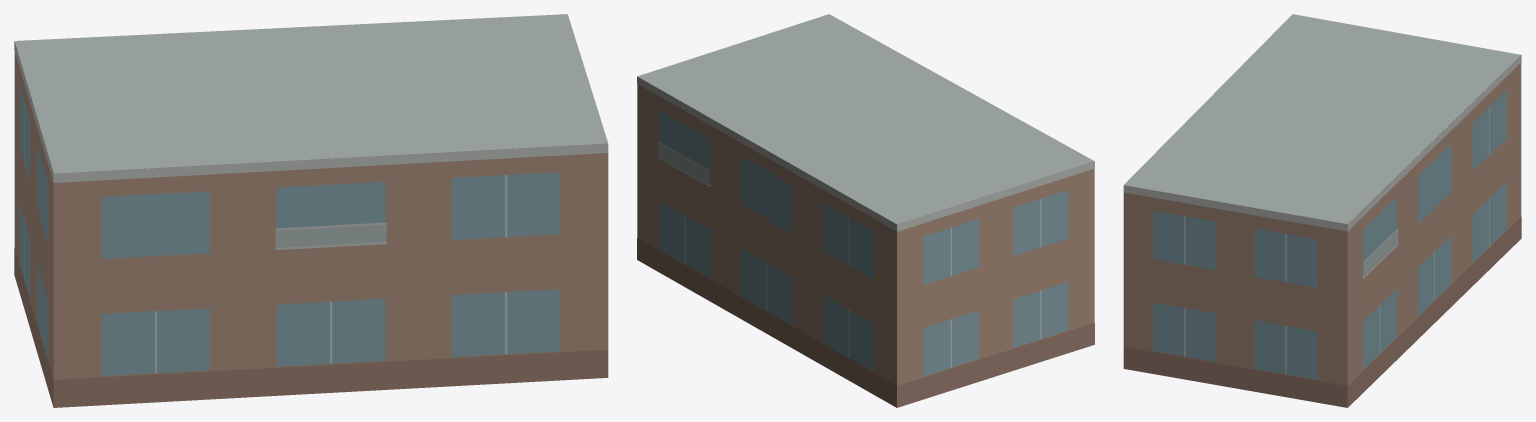
Rendered from survey-upis-32698070.glb.
3 views of the same model, side by side, from view 1: azimuth 30°, elevation 25°; view 2: azimuth 150°, elevation 25°; view 3: azimuth 270°, elevation 25° (orthographic). The views are drawn at different scales.
Parts seen in each view (by area): view 1: survey-upis-32698070.tmp; view 2: survey-upis-32698070.tmp; view 3: survey-upis-32698070.tmp.
Part boxes in pixels (x1=…): survey-upis-32698070.tmp: x1=14, y1=14, x2=608, y2=407; survey-upis-32698070.tmp: x1=637, y1=14, x2=1094, y2=407; survey-upis-32698070.tmp: x1=1123, y1=14, x2=1521, y2=407.
Size of the model in its own units: 14.98 by 6.1 by 11.98.
